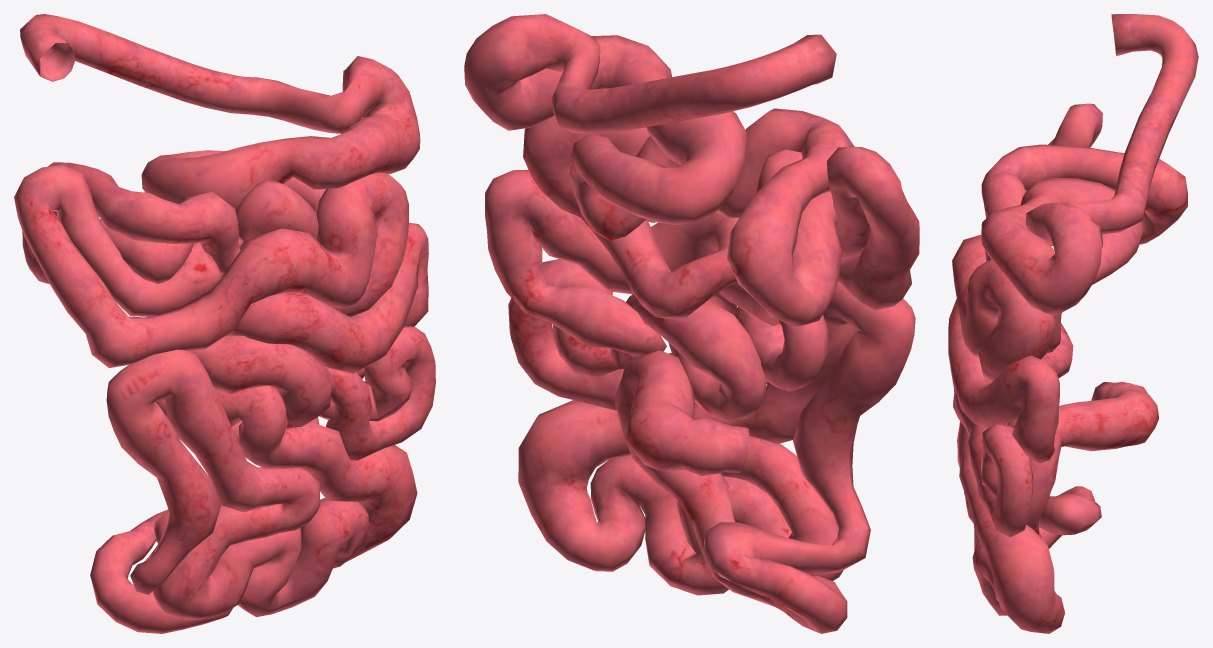
Rendered from smallintestine.FBX.
The picture shows the model from 3 angles, left to right: view 1: azimuth 30°, elevation 25°; view 2: azimuth 150°, elevation 25°; view 3: azimuth 270°, elevation 25°; orthographic projection. The views are drawn at different scales.
Visible parts, largest first — view 1: SmalIintestine; view 2: SmalIintestine; view 3: SmalIintestine.
Part boxes in pixels (x1,y1,x2,y2): SmalIintestine: (14, 14, 435, 633); SmalIintestine: (464, 14, 919, 633); SmalIintestine: (948, 14, 1198, 633).
Bounding box in the file's own units: 174 × 106 × 245.
